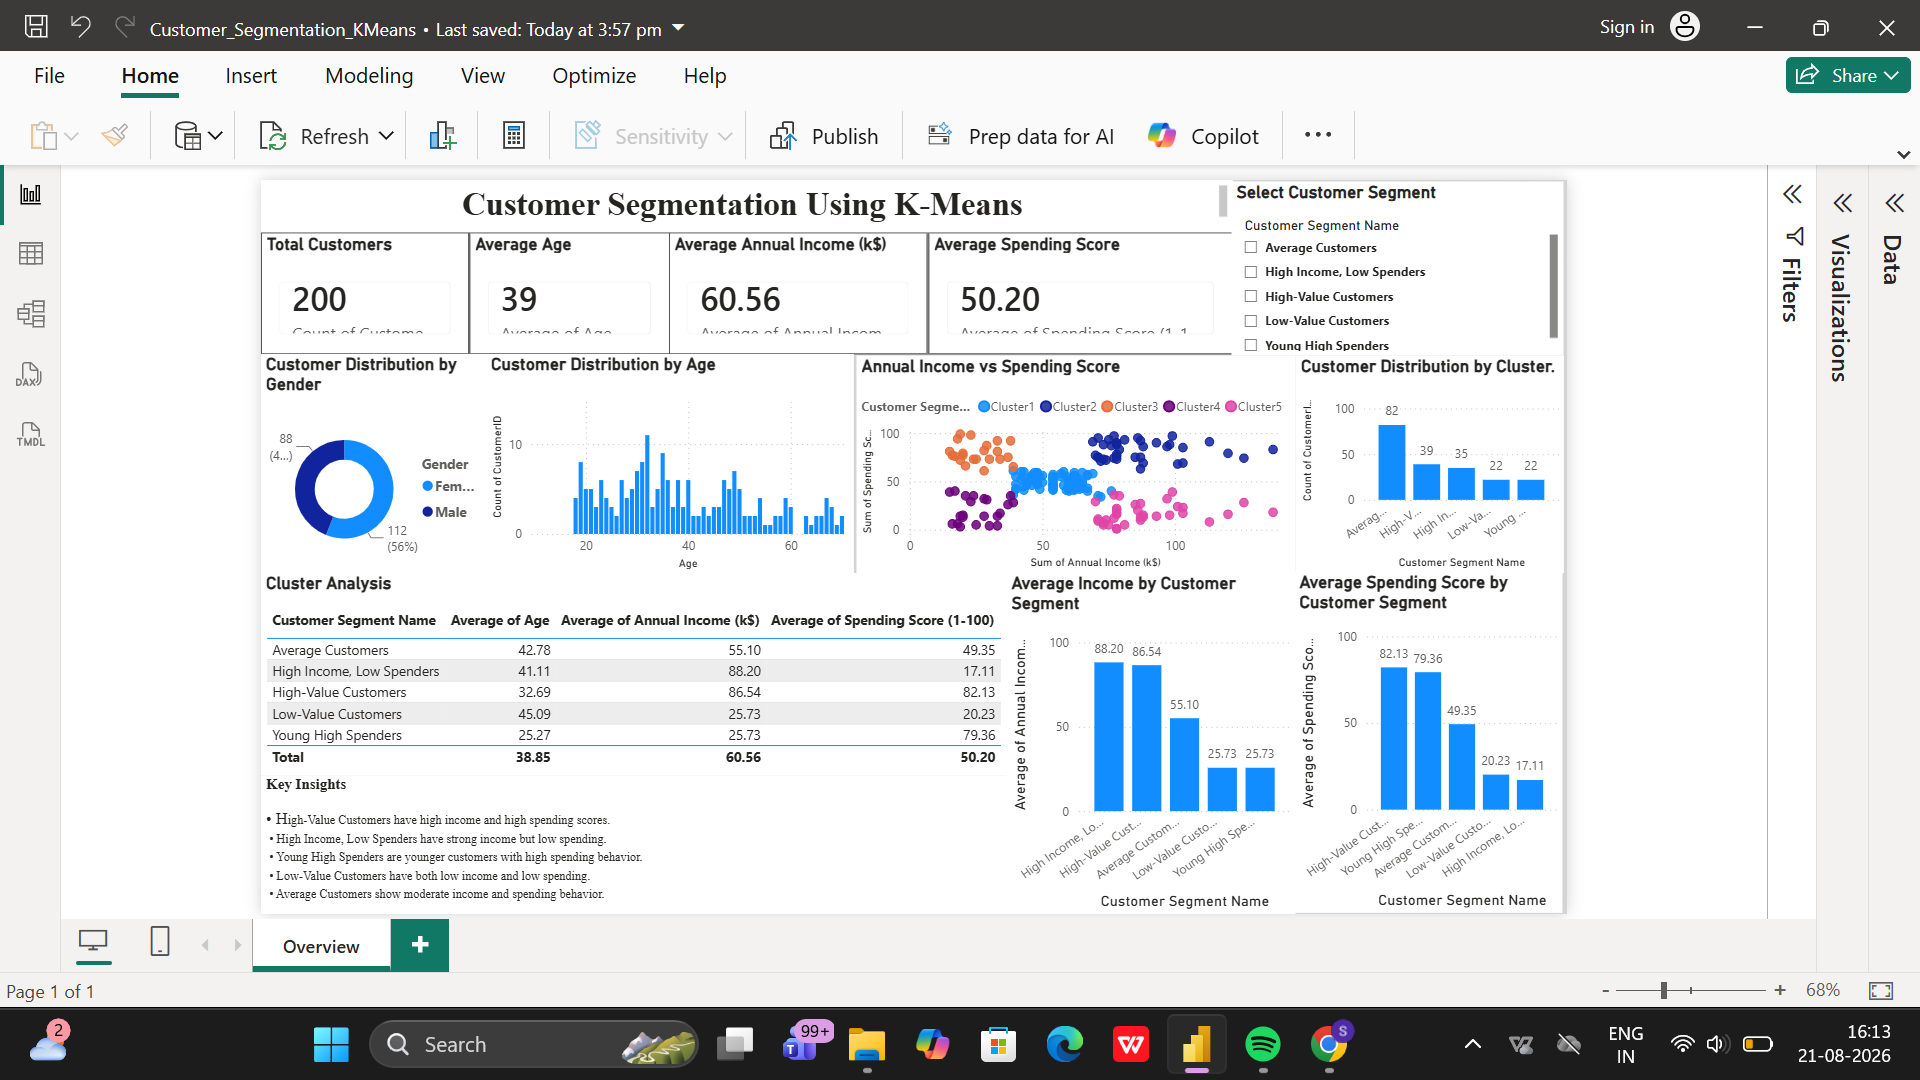

What the dashboard file says about the page in this screenshot:
{"tool":"powerbi","page":{"name":"Overview","canvas":[1280,720],"ordinal":0},"visuals":[{"type":"cardVisual","title":"Total Customers","fields":{"Data":["CountNonNull(Customer_Data.CustomerID)"]},"box":[0,51,204.1,119.1],"z":0},{"type":"cardVisual","title":"Average Age","fields":{"Data":["Avg(Customer_Data.Age)"]},"box":[204.1,51,196.5,119.1],"z":1000},{"type":"cardVisual","title":"Average Annual Income (k$)","fields":{"Data":["Avg(Customer_Data.Annual Income (k$))"]},"box":[400.6,51,253.2,119.1],"z":2000},{"type":"cardVisual","title":"Average Spending Score","fields":{"Data":["Avg(Customer_Data.Spending Score (1-100))"]},"box":[653.9,51,298.6,119.1],"z":3000},{"type":"donutChart","title":"Customer Distribution by Gender","fields":{"Category":["Customer_Data.Gender"],"Y":["CountNonNull(Customer_Data.CustomerID)"]},"box":[0,170.1,230.6,215.4],"z":4000},{"type":"clusteredColumnChart","title":"Customer Distribution by Age","fields":{"Category":["Customer_Data.Age"],"Y":["CountNonNull(Customer_Data.CustomerID)"]},"box":[221.1,170.1,360.9,215.4],"z":5000},{"type":"scatterChart","title":"Annual Income vs Spending Score","fields":{"X":["Sum(Customer_Data.Annual Income (k$))"],"Y":["Sum(Customer_Data.Spending Score (1-100))"],"Category":["Customer_Data.CustomerID"],"Series":["Customer_Data.Customer Segments (K-Means)"]},"box":[583.9,172,430.9,213.5],"z":6000},{"type":"clusteredColumnChart","title":"Customer Distribution by Cluster.","fields":{"Y":["CountNonNull(Customer_Data.CustomerID)"],"Category":["Customer_Data.Customer Segment Name"]},"box":[1014.8,172,262.7,213.5],"z":7000},{"type":"tableEx","title":"Cluster Analysis","fields":{"Values":["Customer_Data.Customer Segment Name","Avg(Customer_Data.Age)","Avg(Customer_Data.Annual Income (k$))","Avg(Customer_Data.Spending Score (1-100))"]},"box":[0,385.5,731.3,198.4],"z":8000},{"type":"clusteredColumnChart","title":"Average Income by Customer Segment","fields":{"Category":["Customer_Data.Customer Segment Name"],"Y":["Avg(Customer_Data.Annual Income (k$))"]},"box":[731.3,385.5,283.5,334.5],"z":9000},{"type":"clusteredColumnChart","title":"Average Spending Score by Customer Segment","fields":{"Category":["Customer_Data.Customer Segment Name"],"Y":["Avg(Customer_Data.Spending Score (1-100))"]},"box":[1014.8,385.5,262.7,334.5],"z":10000},{"type":"slicer","title":"Select Customer Segment","fields":{"Values":["Customer_Data.Customer Segment Name"]},"box":[952.4,0,325,170.1],"z":11000},{"type":"textbox","box":[0,0,952.4,51],"z":12000},{"type":"textbox","title":"Key Insights","box":[0,583.9,731.3,136.1],"z":13000}]}

Visuals, with their boxes on the page's 1280x720 design canvas (x1, y1, x2, y2). These are canvas units, not pixel positions in the 1920x1080 screenshot, which may show the page scaled, cropped or inside an application window:
"Total Customers" cardVisual: x1=0, y1=51, x2=204, y2=170
"Average Age" cardVisual: x1=204, y1=51, x2=401, y2=170
"Average Annual Income (k$)" cardVisual: x1=401, y1=51, x2=654, y2=170
"Average Spending Score" cardVisual: x1=654, y1=51, x2=952, y2=170
"Customer Distribution by Gender" donutChart: x1=0, y1=170, x2=231, y2=386
"Customer Distribution by Age" clusteredColumnChart: x1=221, y1=170, x2=582, y2=386
"Annual Income vs Spending Score" scatterChart: x1=584, y1=172, x2=1015, y2=386
"Customer Distribution by Cluster." clusteredColumnChart: x1=1015, y1=172, x2=1278, y2=386
"Cluster Analysis" tableEx: x1=0, y1=386, x2=731, y2=584
"Average Income by Customer Segment" clusteredColumnChart: x1=731, y1=386, x2=1015, y2=720
"Average Spending Score by Customer Segment" clusteredColumnChart: x1=1015, y1=386, x2=1278, y2=720
"Select Customer Segment" slicer: x1=952, y1=0, x2=1277, y2=170
textbox: x1=0, y1=0, x2=952, y2=51
"Key Insights" textbox: x1=0, y1=584, x2=731, y2=720
